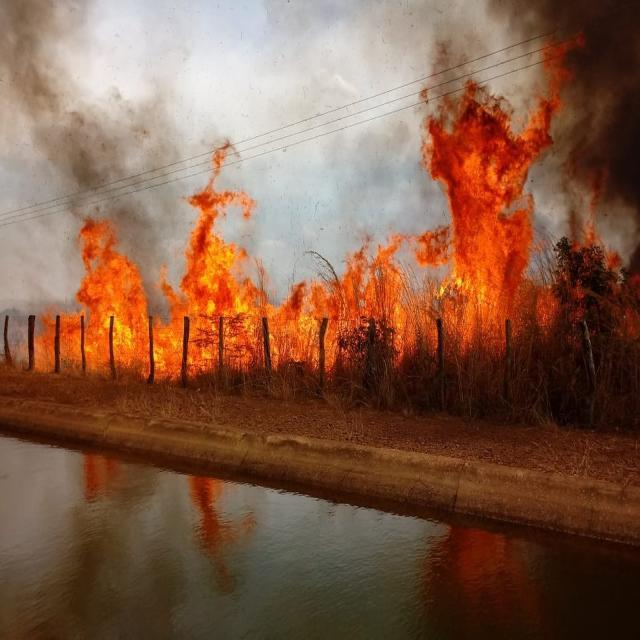Fire: (428, 109, 530, 338), (260, 273, 416, 362), (190, 183, 243, 365), (81, 245, 148, 373)
Smoke: (4, 2, 164, 172)
